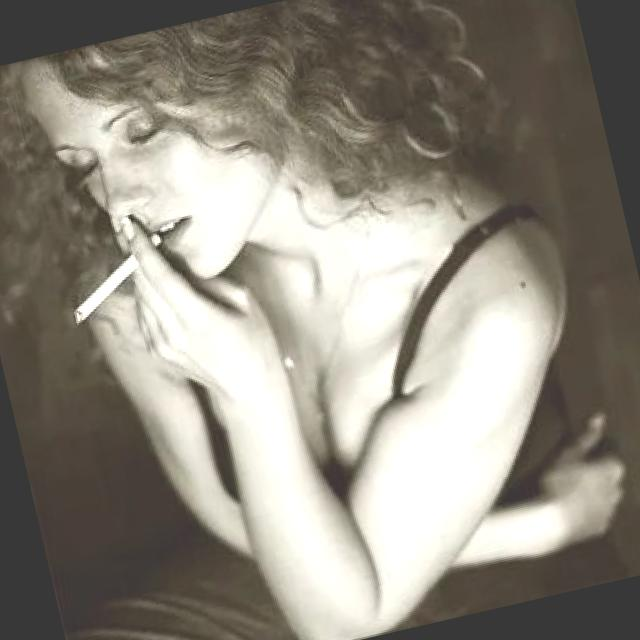smoke: (48, 226, 181, 330)
